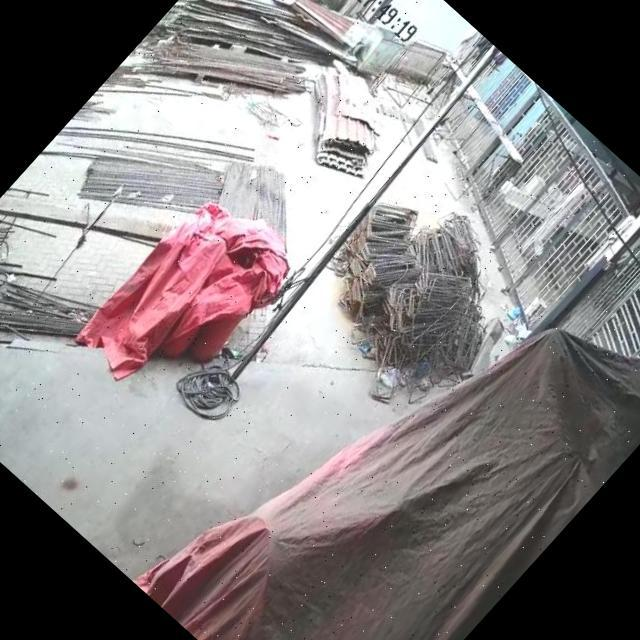person: (508, 167, 603, 268)
